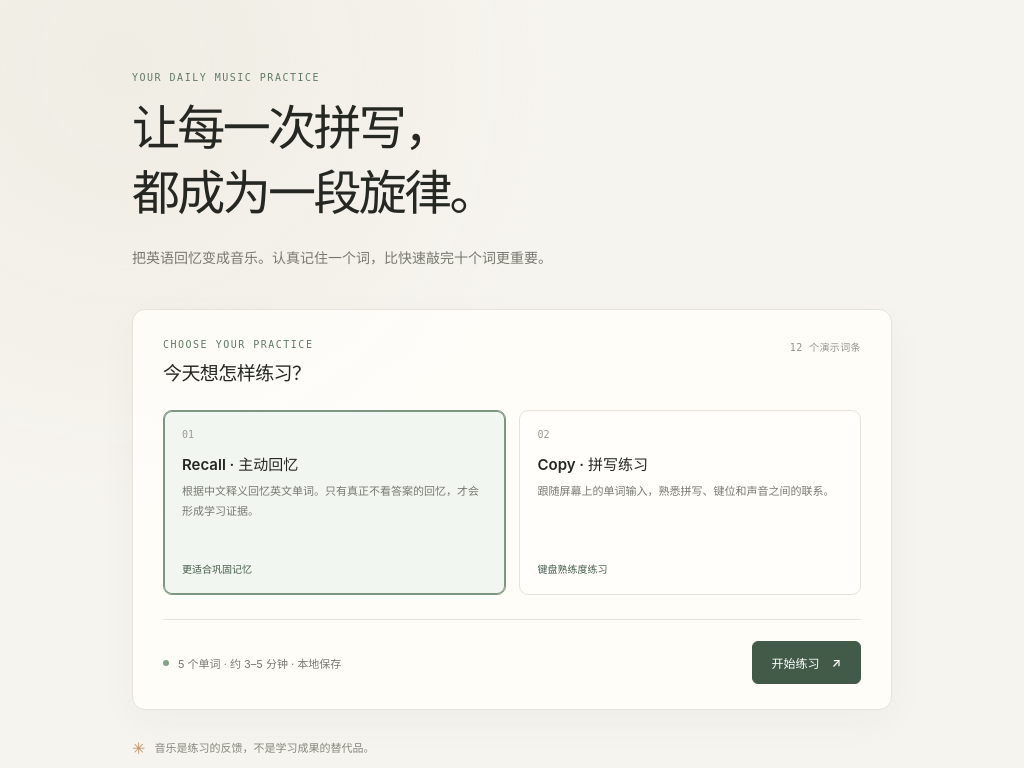
Test: PracticeScreen › allows Copy mode without presenting it as a mastery score
Click the button "02 Copy · 拼写练习 跟随屏幕上的单词输入，熟悉拼写、键位和声音之间的联系。 键盘熟练度练习". click: (593, 465)
box: [518, 410, 861, 595]
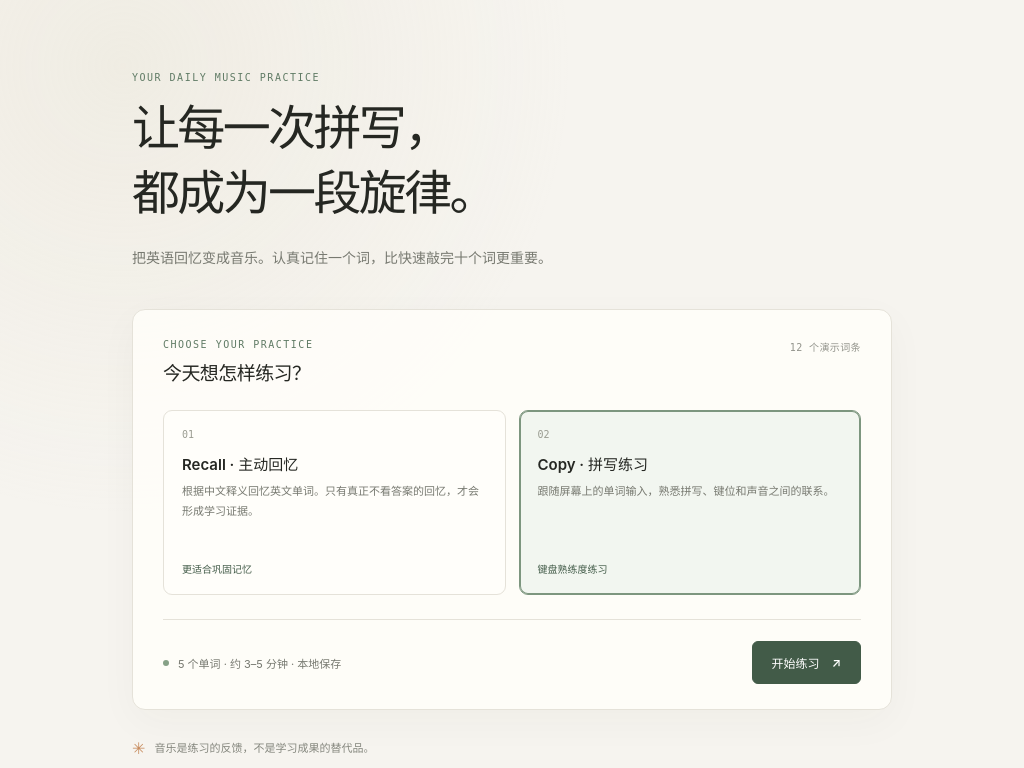
Click the button "开始练习 ↗". click: (806, 663)
box: [752, 641, 861, 684]
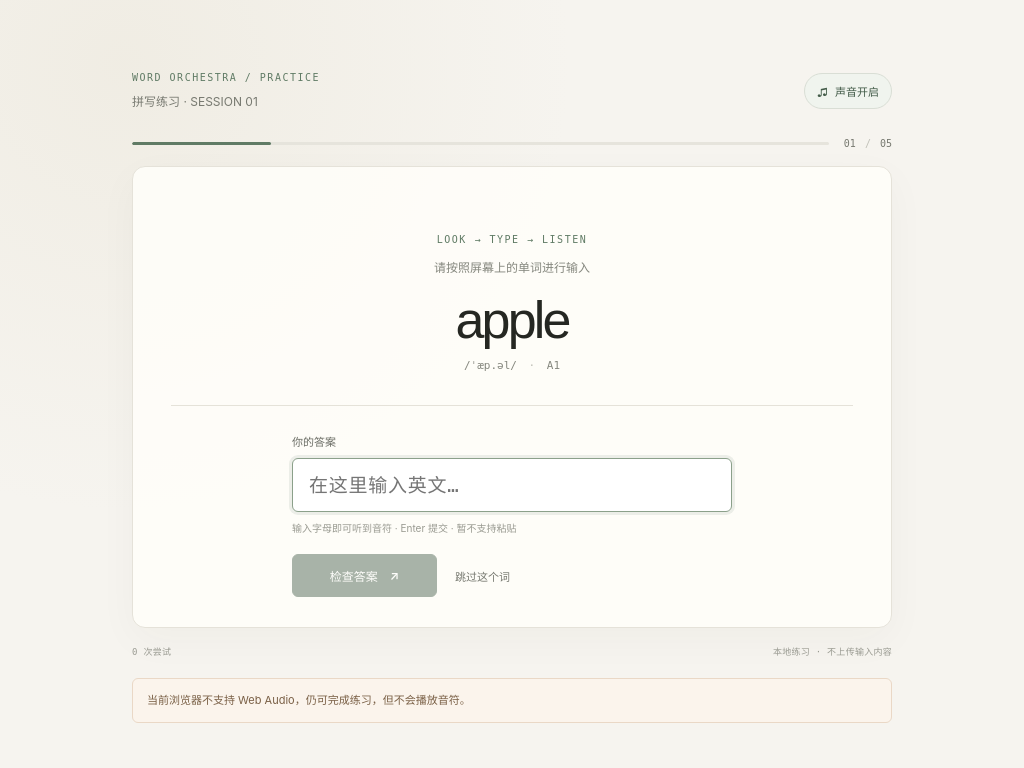
expect the heading "apple" is shown: met, box [456, 290, 568, 350]
expect the text "拼写练习 · SESSION 01" is shown: met, box [132, 94, 258, 109]
